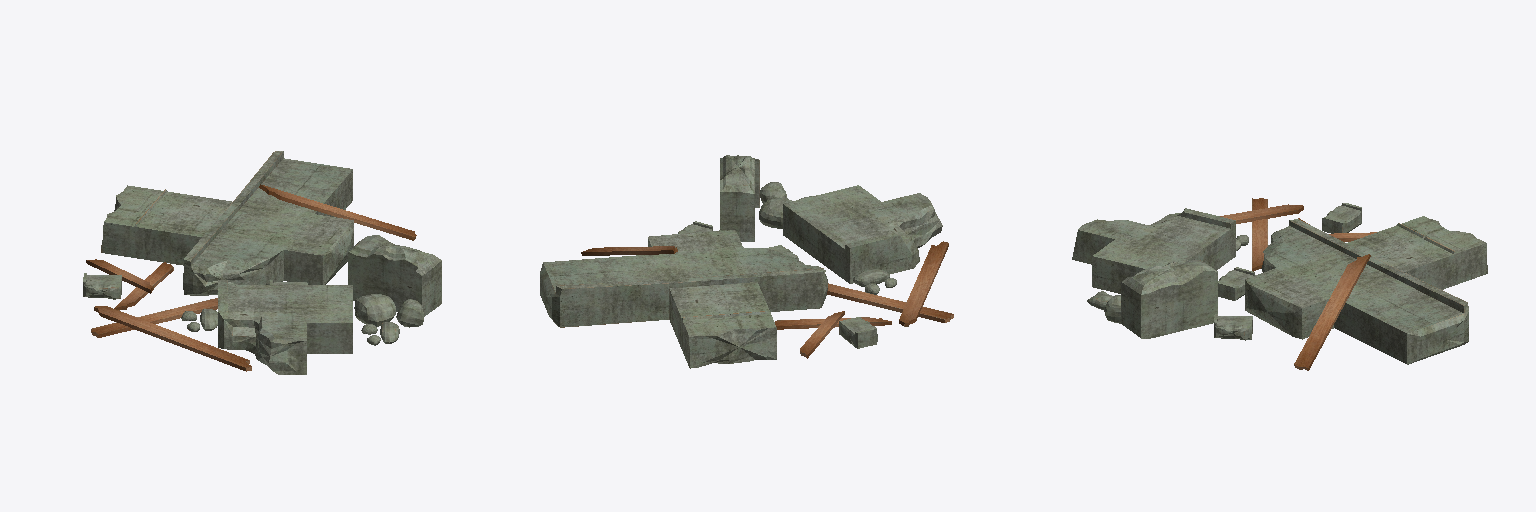
The picture shows the model from 3 angles: view 1: azimuth 30°, elevation 25°; view 2: azimuth 150°, elevation 25°; view 3: azimuth 270°, elevation 25°; orthographic projection.
Visible parts, largest first — view 1: Rubble_01; view 2: Rubble_01; view 3: Rubble_01.
Part boxes in pixels (x1,y1,x2,y2): Rubble_01: (83,151,441,374); Rubble_01: (540,155,953,368); Rubble_01: (1072,198,1487,370).
Bounding box in the file's own units: 422 × 73.55 × 440.
1 materials, 1 textured.